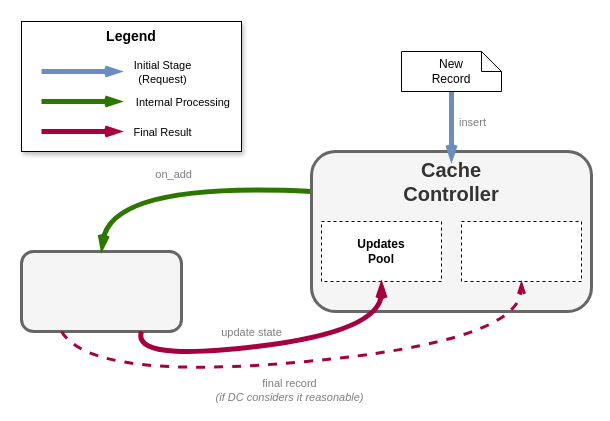
Some shapes in this 610 by 421 pixel diagram are drawn without their labels. The shapes that lost their labels are listed below. From the top down, each one's centre as x and y in pixels, then its label:
At pixel 521 251: "Cache".
At pixel 101 291: "Data Controller".
